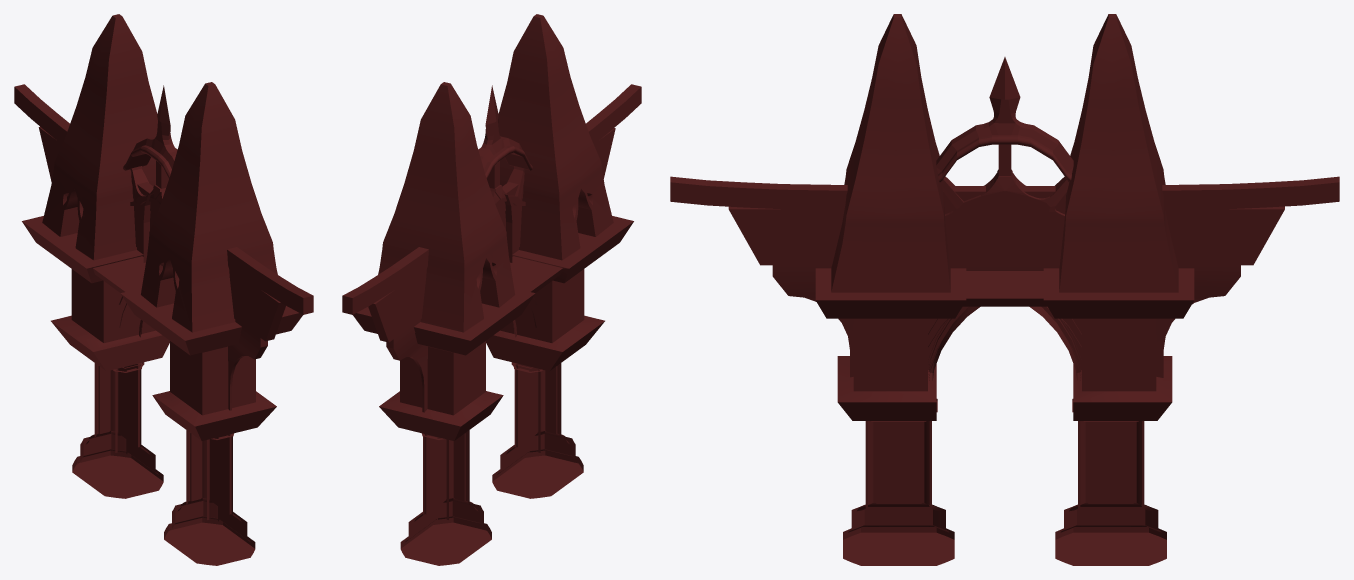
Rendered from Temple_Gate.fbx.
The picture shows the model from 3 angles, left to right: view 1: azimuth 30°, elevation 25°; view 2: azimuth 150°, elevation 25°; view 3: azimuth 270°, elevation 25°; orthographic projection. The views are drawn at different scales.
Visible parts, largest first — view 1: GothicJ_Gate; view 2: GothicJ_Gate; view 3: GothicJ_Gate.
Part boxes in pixels (x1,y1,x2,y2): GothicJ_Gate: (14, 14, 313, 565); GothicJ_Gate: (342, 14, 641, 565); GothicJ_Gate: (670, 14, 1339, 565).
Bounding box in the file's own units: 35.5 × 129 × 147.
